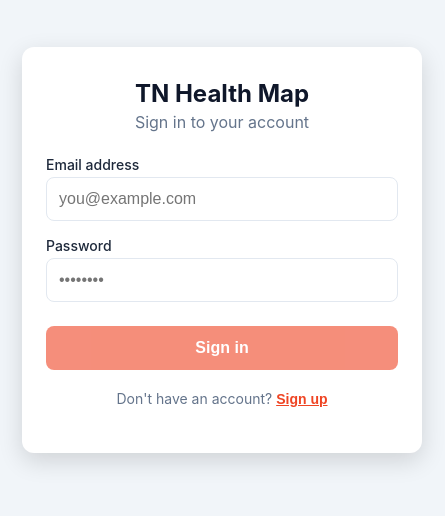
Scenario: LoginForm › clears any error message when the user toggles between modes
Type "bad@example.com" into the field labelled "Email address". click: (222, 199)
box: [46,177,398,221]
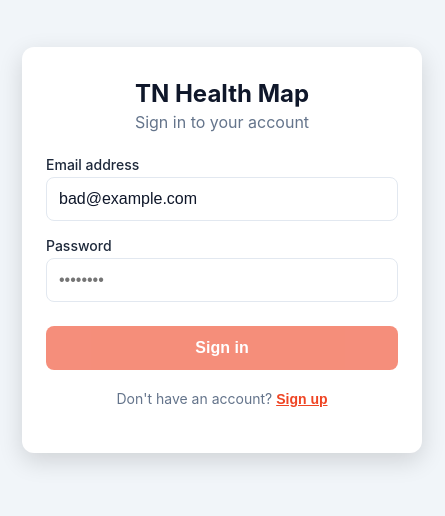
Type "wrong" into the password field labelled "Password". click: (222, 280)
box: [46,258,398,302]
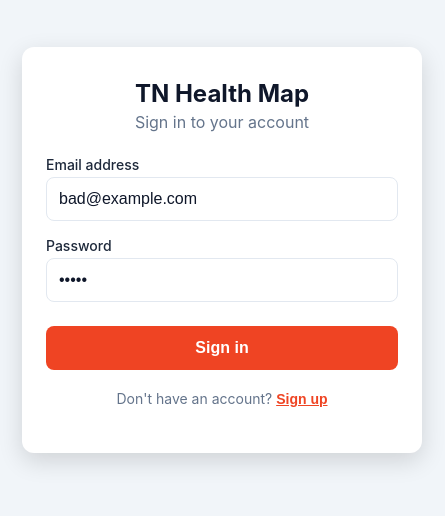
Click the button "Sign in". click: (222, 348)
box: [46,326,398,370]
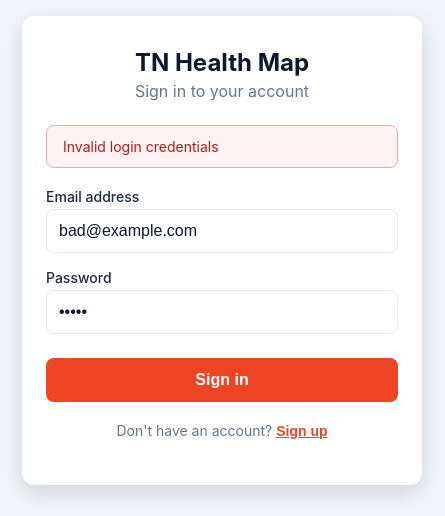
Now the message "Invalid login credentials" is shown, box [46,124,398,168]
Click the button "Sign up". click: (302, 430)
box: [276,422,328,438]
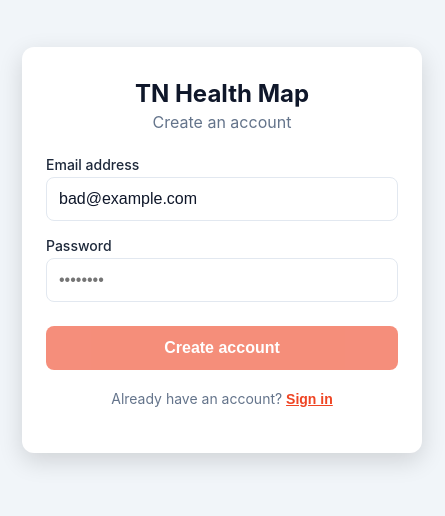
Now the message "Invalid login credentials" is gone
